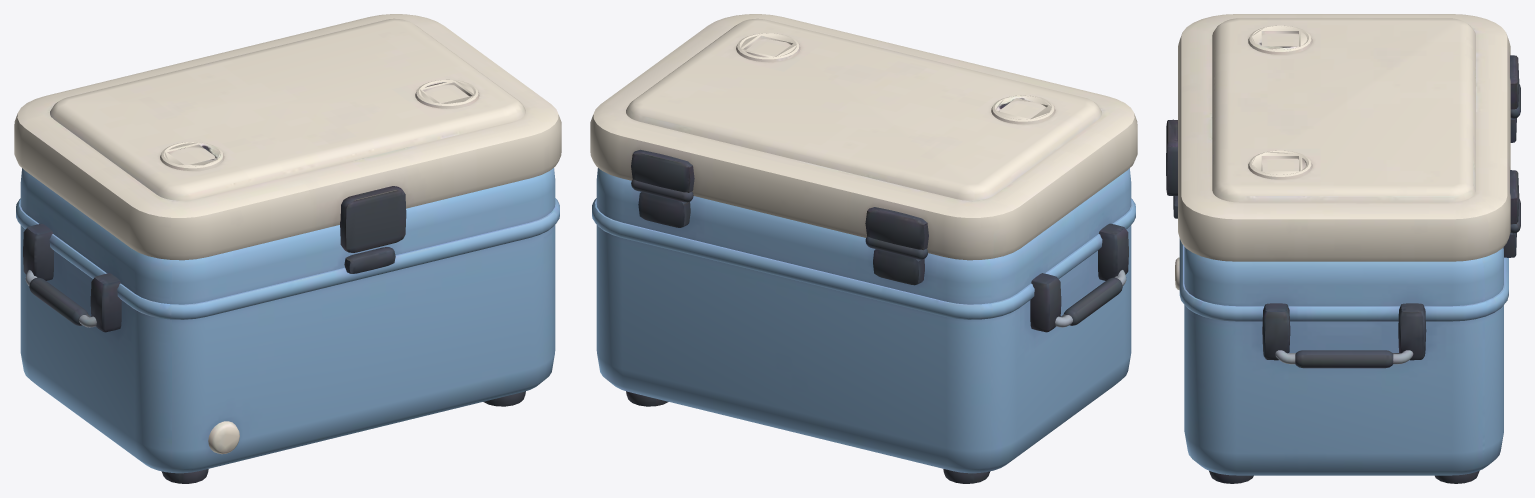
File: g3d_cooler_box.glb
3 renders of one model, left to right at view 1: azimuth 30°, elevation 25°; view 2: azimuth 150°, elevation 25°; view 3: azimuth 270°, elevation 25°, orthographic.
Parts seen in each view (by area): view 1: cooler-box_body, cooler-box_lid, cooler-box_lid_lo; view 2: cooler-box_body, cooler-box_lid, cooler-box_lid_lo; view 3: cooler-box_lid, cooler-box_body, cooler-box_lid_lo.
Part boxes in pixels (x1,y1,x2,y2): cooler-box_body: (16, 168, 559, 483); cooler-box_lid: (14, 14, 561, 260); cooler-box_lid_lo: (164, 80, 474, 198); cooler-box_body: (592, 168, 1135, 483); cooler-box_lid: (590, 14, 1137, 260); cooler-box_lid_lo: (740, 33, 1051, 198); cooler-box_lid: (1166, 14, 1519, 261); cooler-box_body: (1173, 84, 1520, 483); cooler-box_lid_lo: (1168, 26, 1307, 174).
Bounding box in the file's own units: 0.687 × 0.4095 × 0.4439.
Materials: 2 (2 with a texture image).
